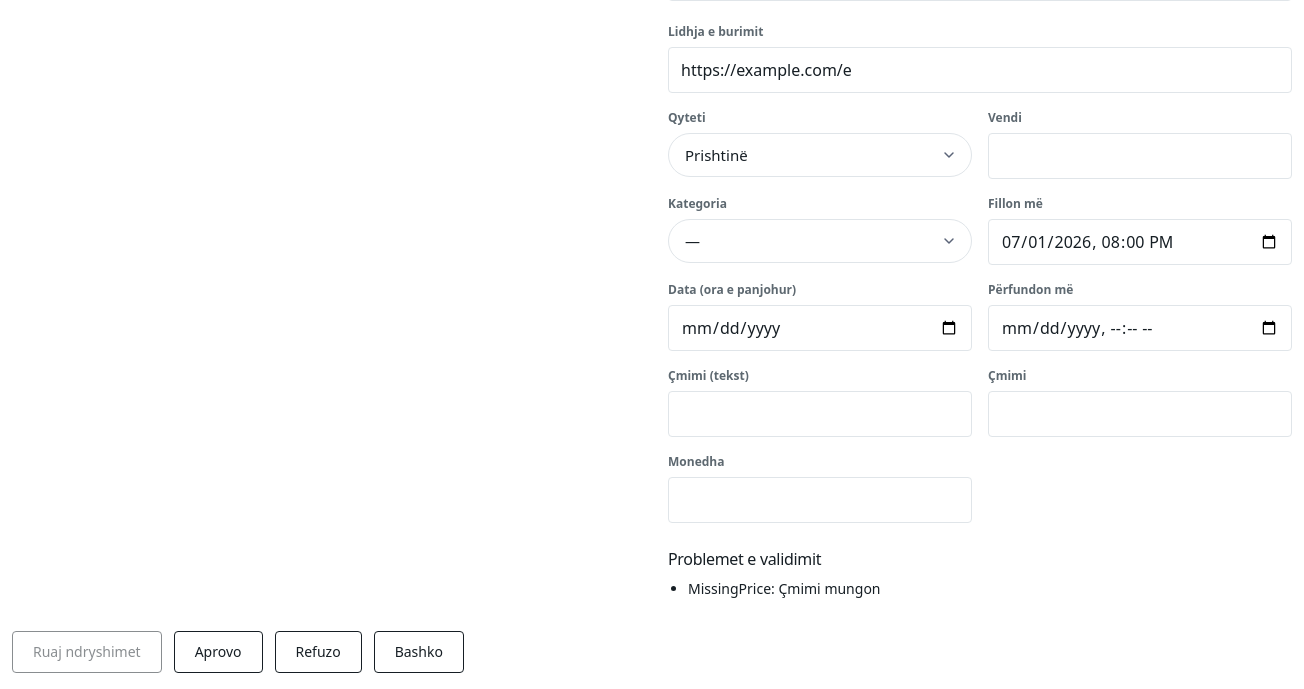
Test: CandidatePage › names the missing fields when approval is refused
(page scrolled)
Click the button "Aprovo".
click(218, 652)  # box [174,631,262,673]
(page scrolled)
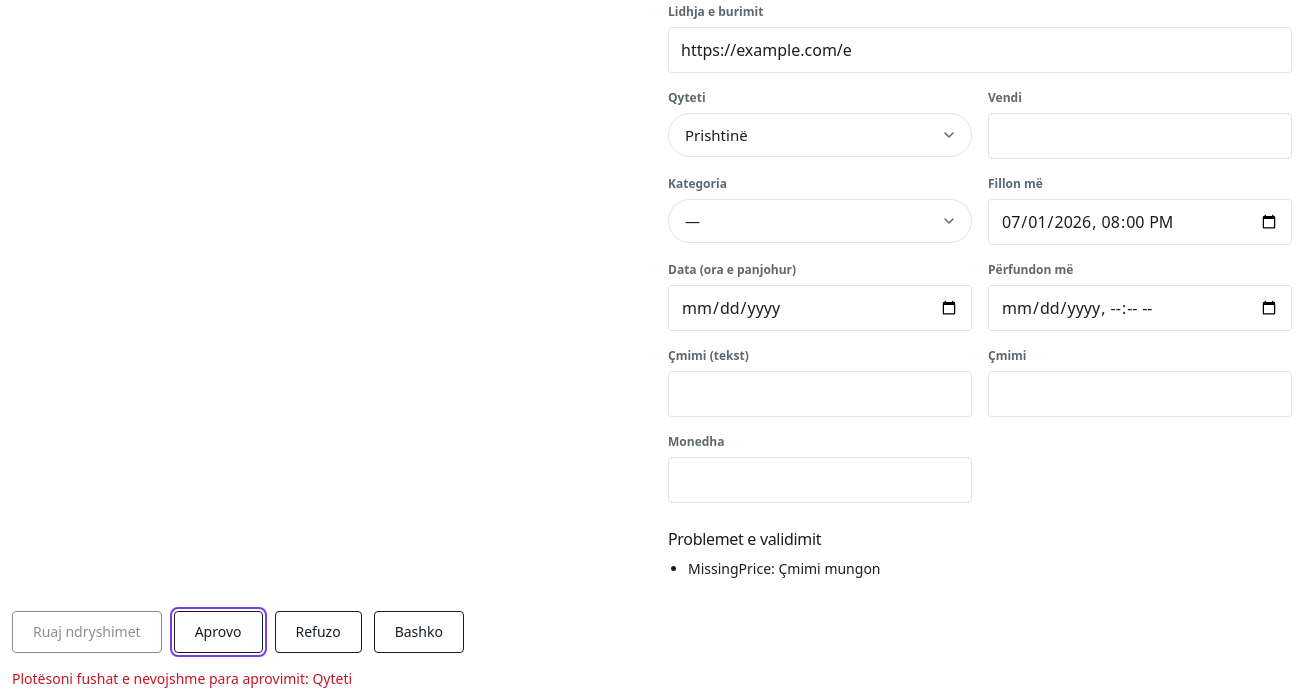
Check: the message shows "Qyteti", box [12,669,352,688]
